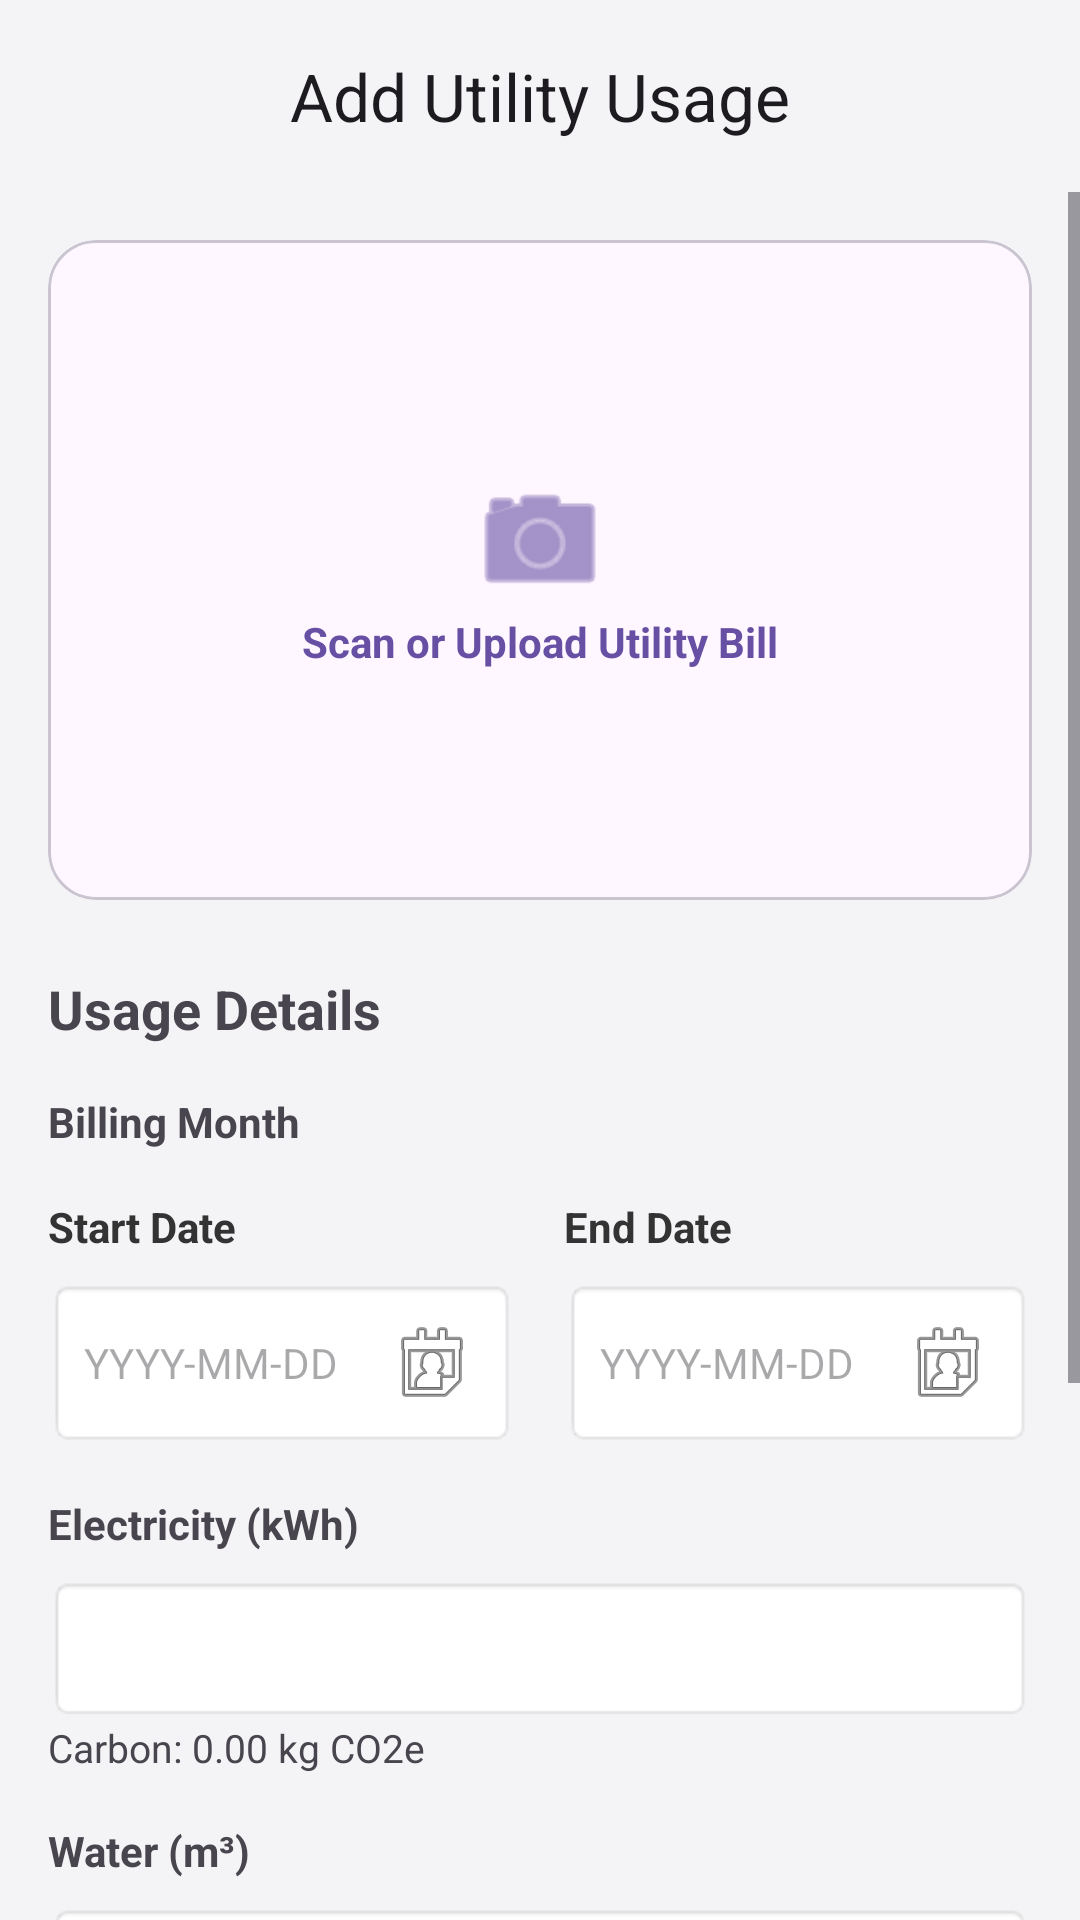

Point at icon controls on the screen. Image size 1080px×1920px, points as (x,y).
camera: (540,539)
